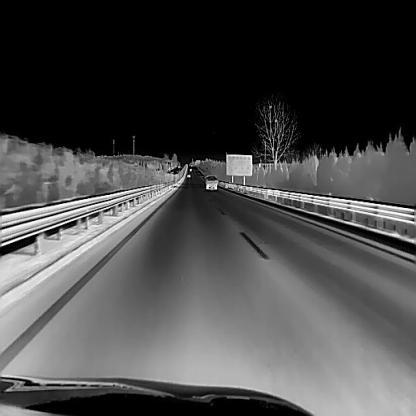car: (203, 173, 218, 189)
